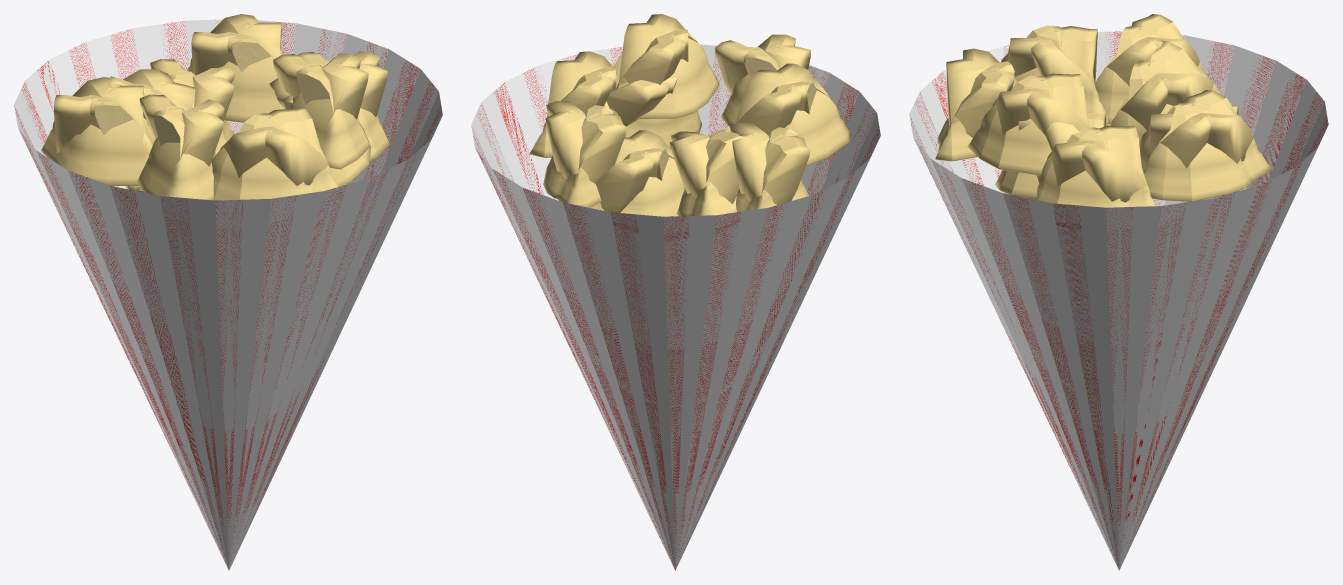
Rendered from Popcorn.dae.
The picture shows the model from 3 angles, left to right: view 1: azimuth 30°, elevation 25°; view 2: azimuth 150°, elevation 25°; view 3: azimuth 270°, elevation 25°; orthographic projection. The views are drawn at different scales.
Visible parts, largest first — view 1: SketchUp (×36), Component_1 (×9); view 2: SketchUp (×32), Component_1 (×9); view 3: SketchUp (×31), Component_1 (×9).
Part boxes in pixels (x1,y1,x2,y2): SketchUp (×36): (14,20,438,569); Component_1 (×9): (41,14,389,200); SketchUp (×32): (471,44,876,569); Component_1 (×9): (529,14,851,216); SketchUp (×31): (909,40,1324,570); Component_1 (×9): (935,14,1271,207).
Size of the model in its own units: 15.01 by 15.01 by 20.16.
